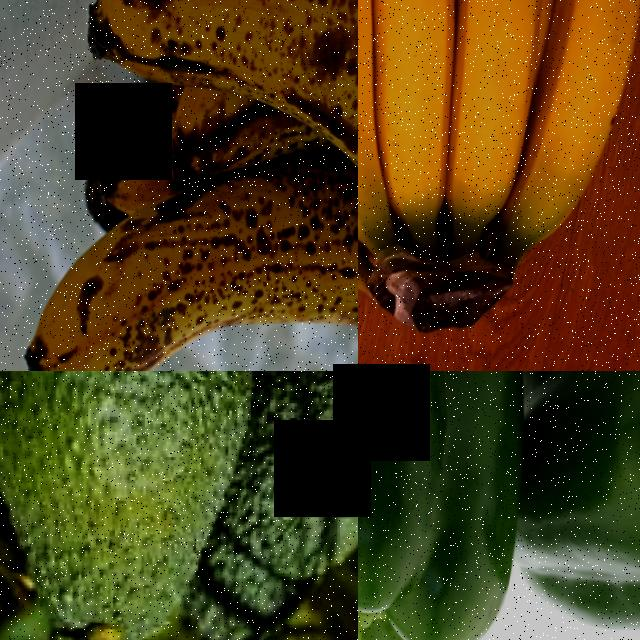avocado: (0, 371, 268, 640), (245, 371, 358, 640)
banana: (14, 0, 358, 371), (358, 0, 640, 354)
bell pepper: (358, 371, 511, 640), (519, 371, 640, 617)
